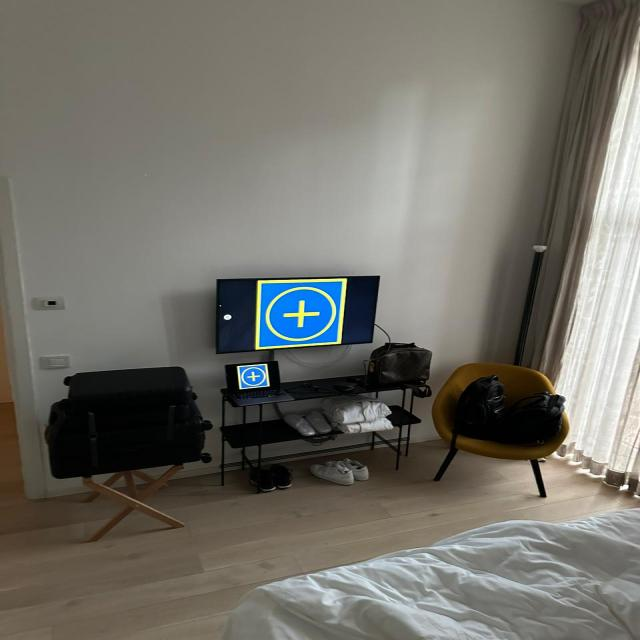Marker: (258, 278, 342, 351), (237, 364, 269, 390)
